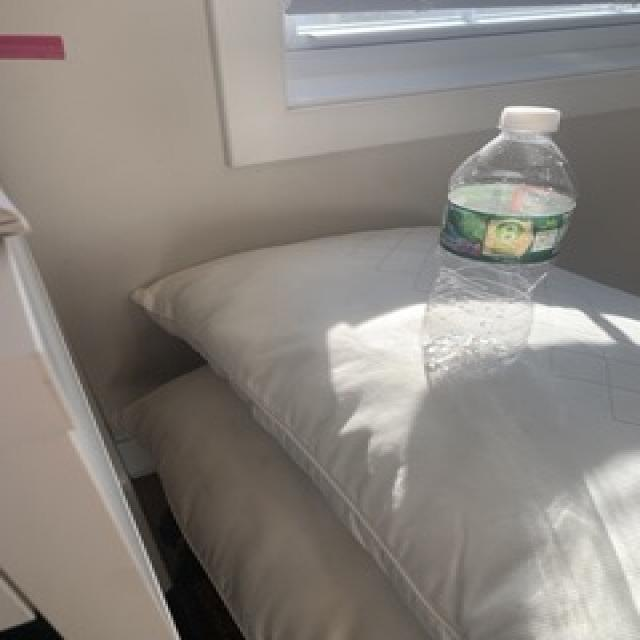water_bottle: (412, 102, 582, 376)
